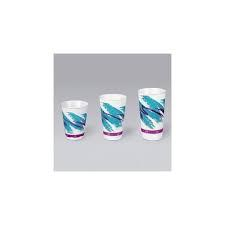Plastic cup: (63, 75, 168, 158)
